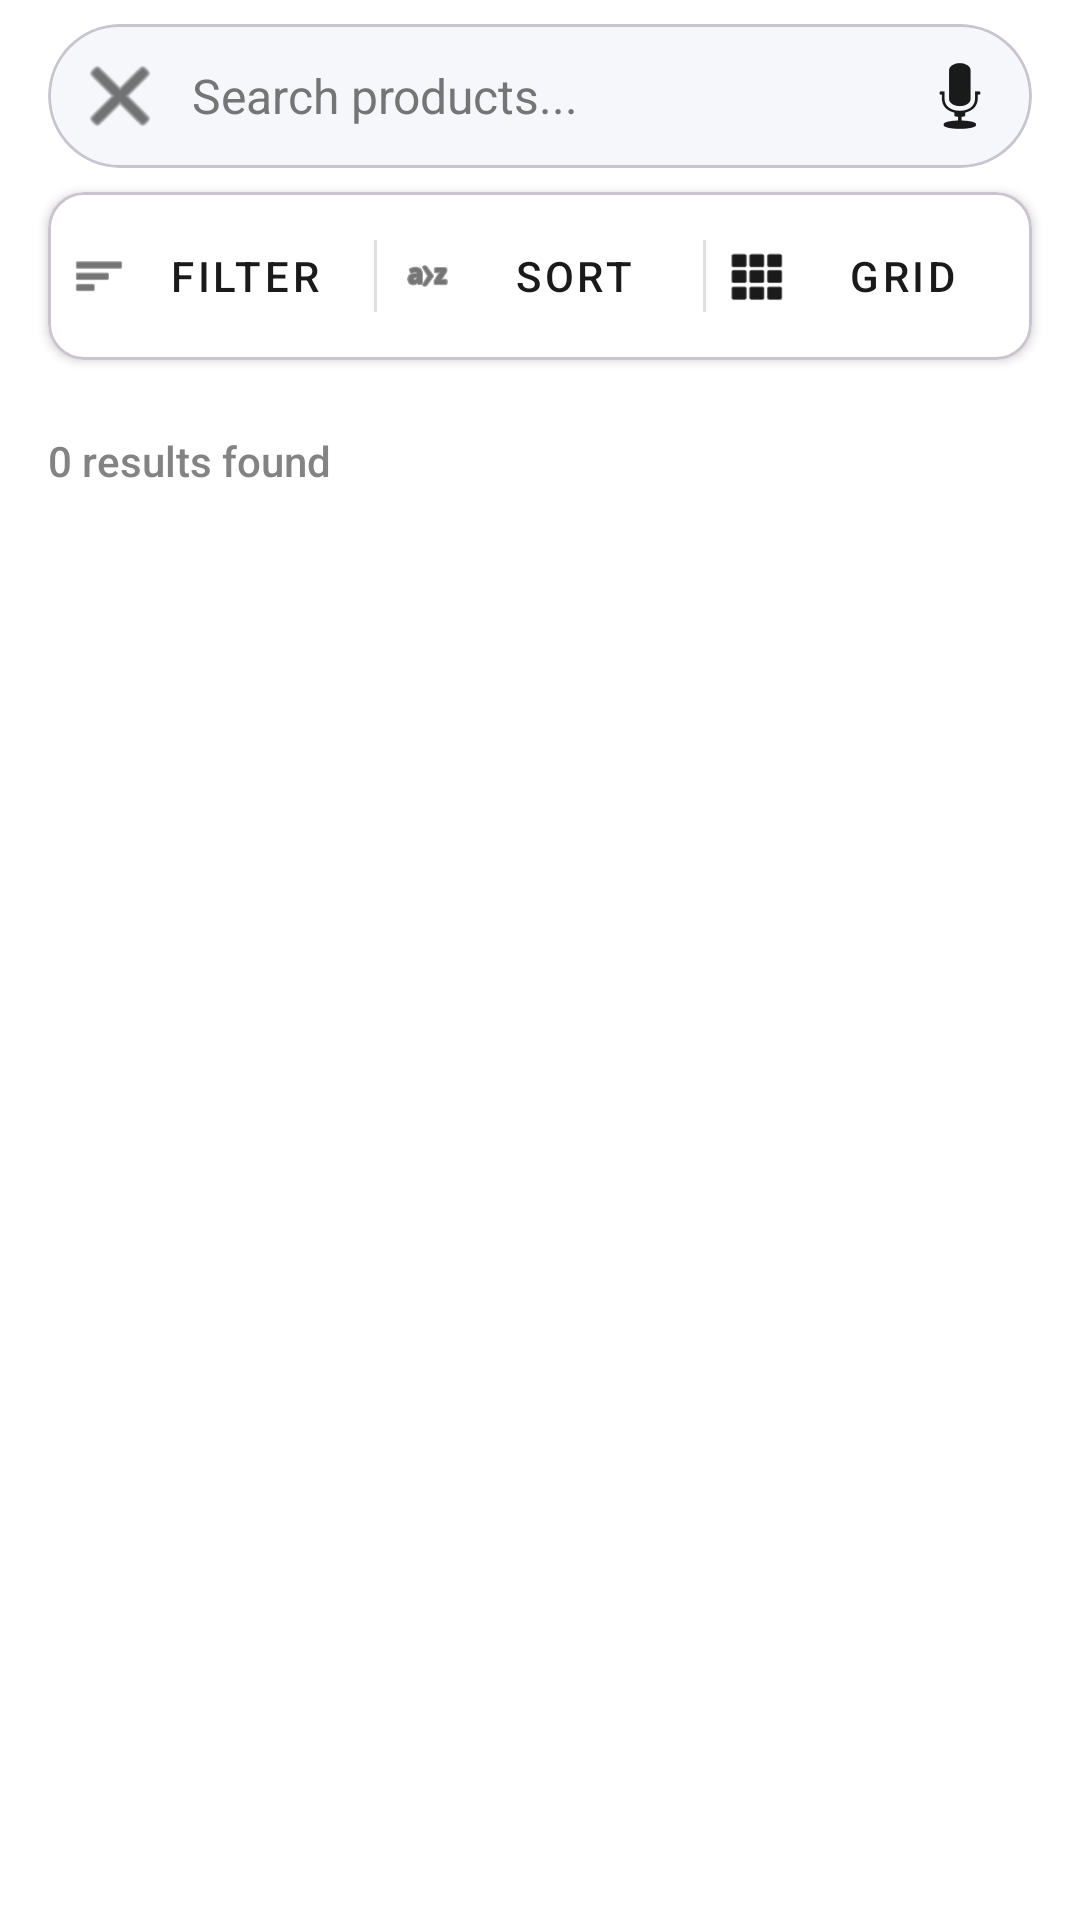

Icon click points for this 1080px x 1920px phone screenshot, format [x,y]:
close clear cancel: [120,96]
speak now: [960,96]
